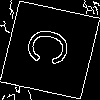C: (24, 25, 81, 71)
